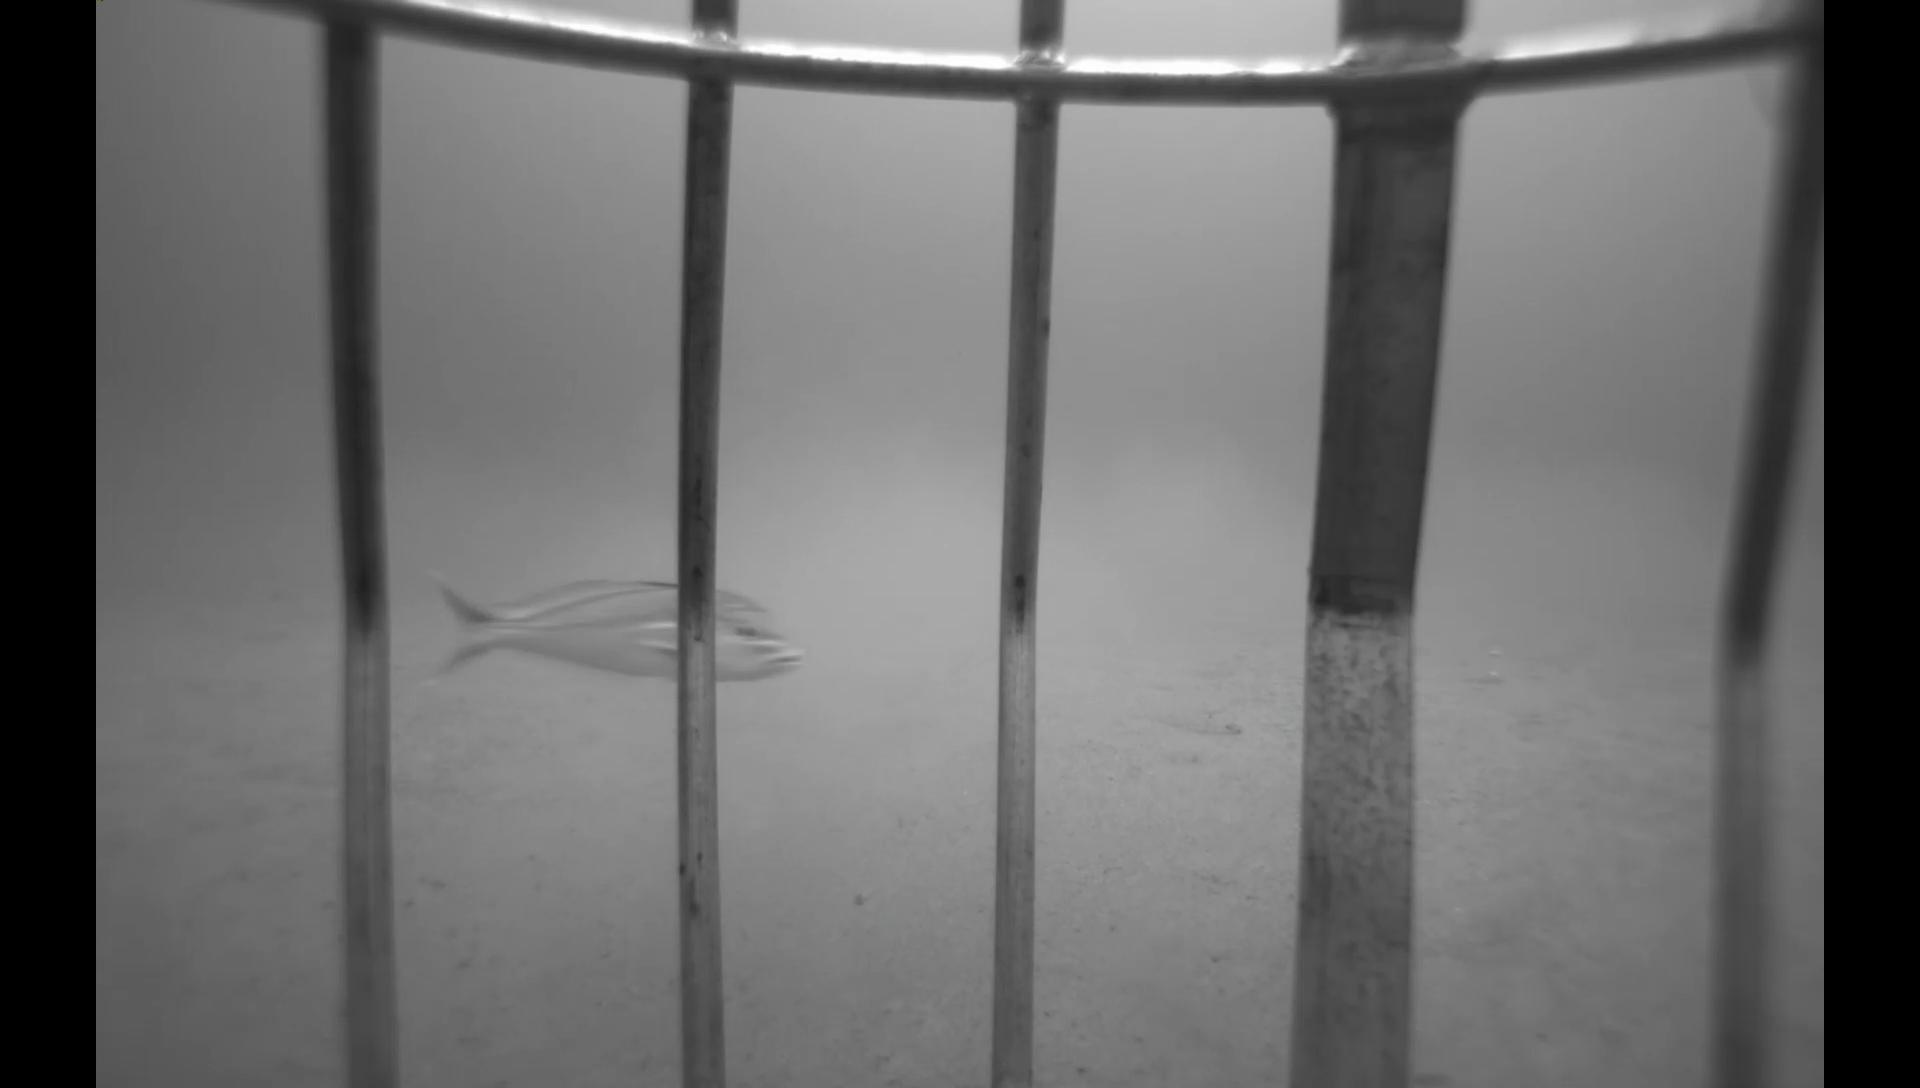CAULOLATILUSCYANOPS-170070101: (411, 553, 803, 698)
SYACIUM-183011000: (1143, 699, 1249, 742)
